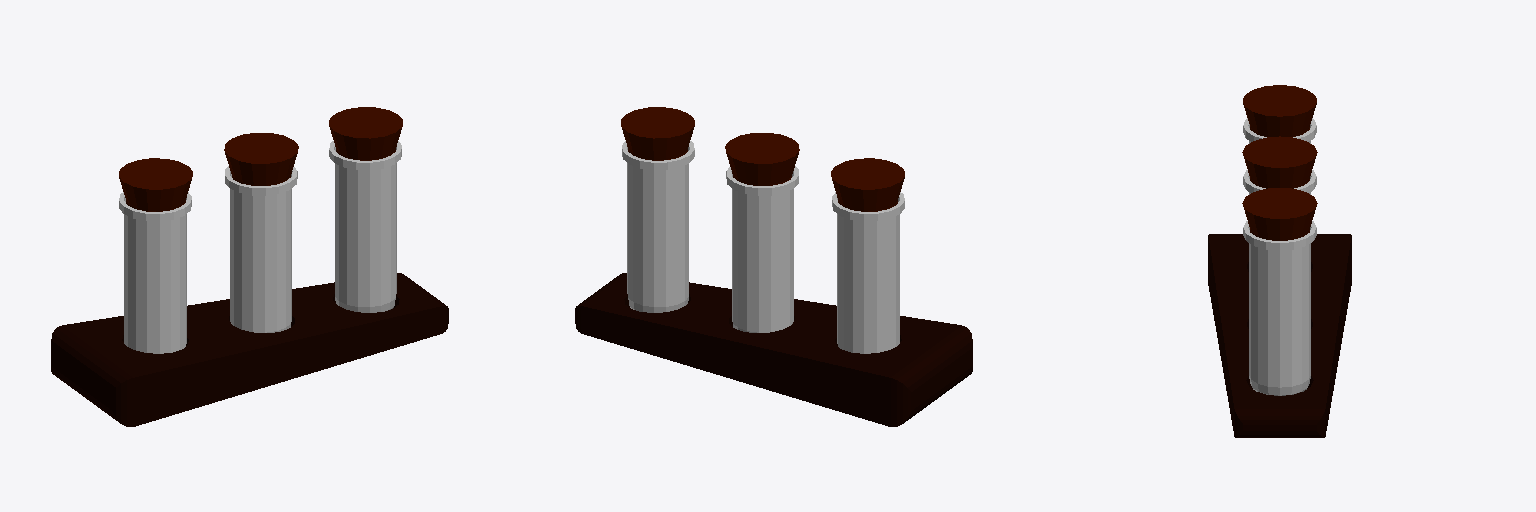
File: tubes.obj
3 views of the same model, side by side, from view 1: azimuth 30°, elevation 25°; view 2: azimuth 150°, elevation 25°; view 3: azimuth 270°, elevation 25° (orthographic).
Parts seen in each view (by area): view 1: Stand_Regular, Bottle_Regular_3, Bottle_Regular_2, Bottle_Regular_1, Cork_Regular_1, Cork_Regular_3, Cork_Regular_2; view 2: Stand_Regular, Bottle_Regular_3, Bottle_Regular_2, Bottle_Regular_1, Cork_Regular_1, Cork_Regular_3, Cork_Regular_2; view 3: Stand_Regular, Bottle_Regular_3, Cork_Regular_3, Cork_Regular_1, Cork_Regular_2.
Part boxes in pixels (bbox=[...]): Stand_Regular: bbox=[51, 273, 448, 426]; Bottle_Regular_3: bbox=[329, 141, 401, 312]; Bottle_Regular_2: bbox=[225, 166, 297, 332]; Bottle_Regular_1: bbox=[119, 192, 191, 353]; Cork_Regular_1: bbox=[119, 158, 192, 211]; Cork_Regular_3: bbox=[329, 107, 402, 160]; Cork_Regular_2: bbox=[224, 133, 298, 185]; Stand_Regular: bbox=[575, 273, 972, 426]; Bottle_Regular_3: bbox=[622, 141, 694, 312]; Bottle_Regular_2: bbox=[726, 166, 798, 332]; Bottle_Regular_1: bbox=[832, 192, 904, 353]; Cork_Regular_1: bbox=[831, 158, 904, 211]; Cork_Regular_3: bbox=[621, 107, 694, 160]; Cork_Regular_2: bbox=[725, 133, 799, 185]; Stand_Regular: bbox=[1208, 234, 1351, 437]; Bottle_Regular_3: bbox=[1243, 221, 1316, 395]; Cork_Regular_3: bbox=[1242, 188, 1317, 240]; Cork_Regular_1: bbox=[1243, 85, 1316, 136]; Cork_Regular_2: bbox=[1242, 136, 1317, 188].
Size of the model in its own units: 4.4 by 2.58 by 1.57.